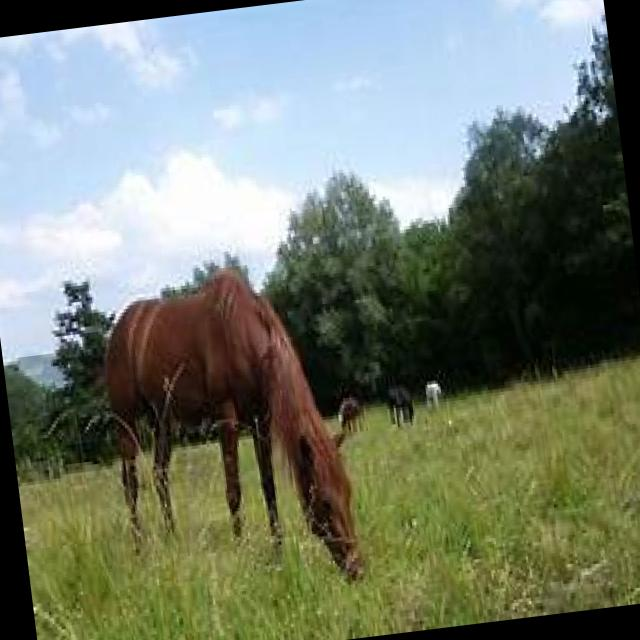animal: (90, 251, 368, 611)
